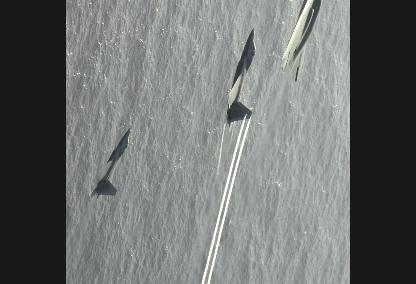B1: (279, 0, 323, 83)
F18: (225, 28, 257, 132), (91, 127, 131, 201)
